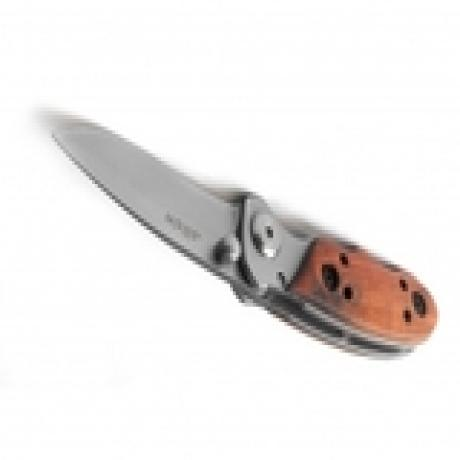weapon: (48, 115, 435, 363)
